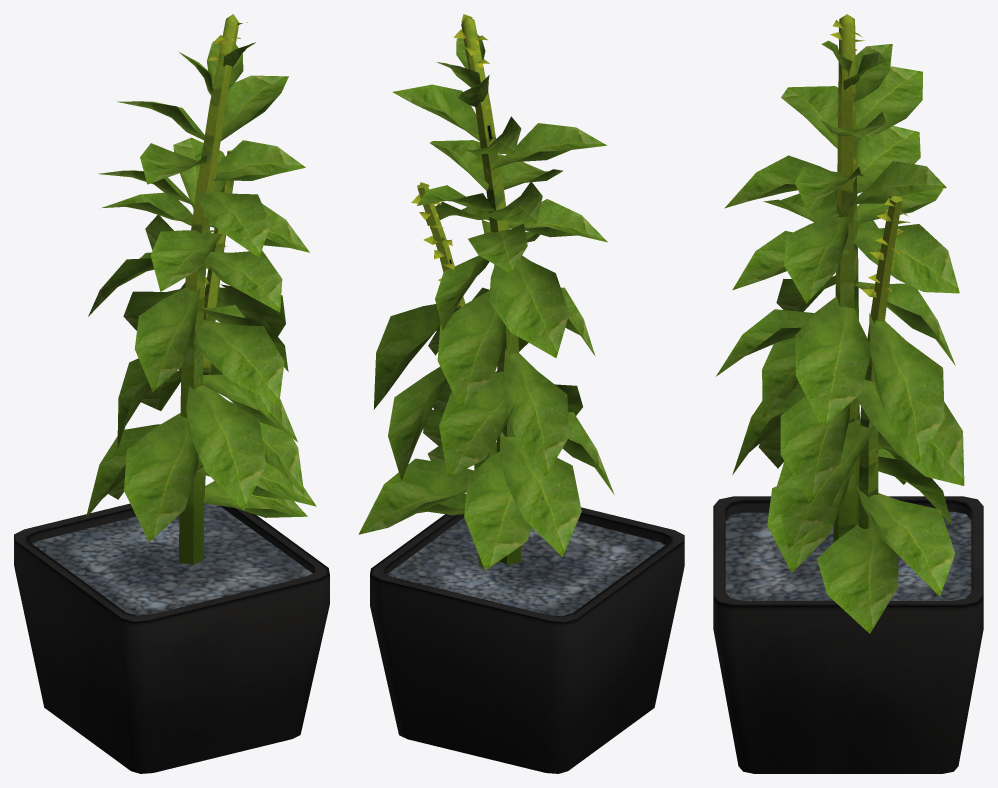
File: Cforskohlii.FBX
3 views of the same model, side by side, from view 1: azimuth 30°, elevation 25°; view 2: azimuth 150°, elevation 25°; view 3: azimuth 270°, elevation 25° (orthographic). The views are drawn at different scales.
Visible parts, largest first — view 1: CForskohlii2Mesh, Pot6, Soil6; view 2: CForskohlii2Mesh, Pot6, Soil6; view 3: CForskohlii2Mesh, Pot6, Soil6.
Boxes of the visible parts, x1,y1,x2,y2 form: CForskohlii2Mesh: [85, 14, 316, 564]; Pot6: [14, 503, 329, 773]; Soil6: [32, 503, 312, 615]; CForskohlii2Mesh: [358, 14, 614, 570]; Pot6: [370, 507, 684, 773]; Soil6: [387, 518, 665, 616]; CForskohlii2Mesh: [716, 14, 964, 633]; Pot6: [713, 496, 983, 773]; Soil6: [725, 511, 971, 600].
Size of the model in its own units: 16.33 by 43.18 by 14.14.
1 material, 1 textured.
